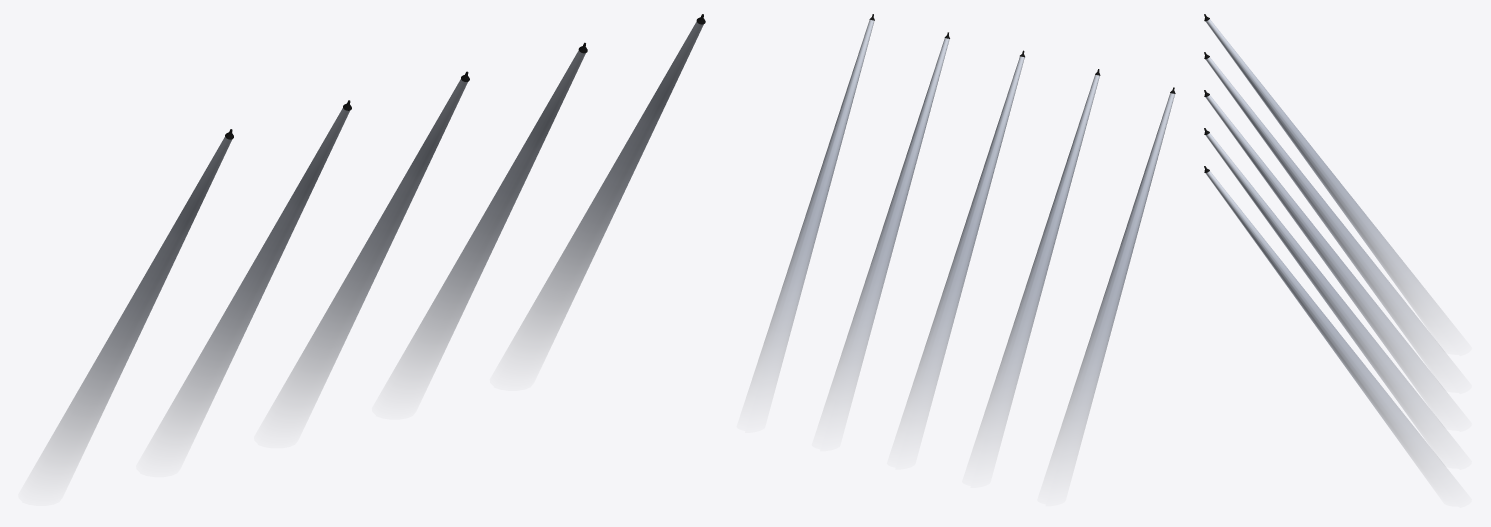
The model's file is spotlights.glb.
3 views of the same model, side by side, from view 1: azimuth 30°, elevation 25°; view 2: azimuth 150°, elevation 25°; view 3: azimuth 270°, elevation 25° (orthographic). The views are drawn at different scales.
Visible parts, largest first — view 1: Cylinder.002; view 2: Cylinder.002; view 3: Cylinder.002.
Boxes of the visible parts, left/top/right/bottom form: Cylinder.002: left=44, top=14, right=705, bottom=460; Cylinder.002: left=753, top=14, right=1175, bottom=455; Cylinder.002: left=1204, top=14, right=1443, bottom=466.
Bounding box in the file's own units: 19.85 × 19.19 × 13.92.
Materials: 3 (3 with a texture image).
